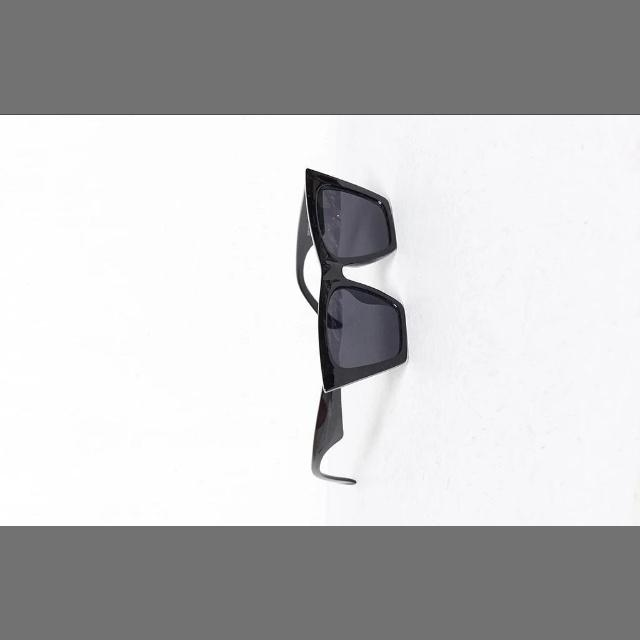Sunglasses: (256, 148, 434, 512)
